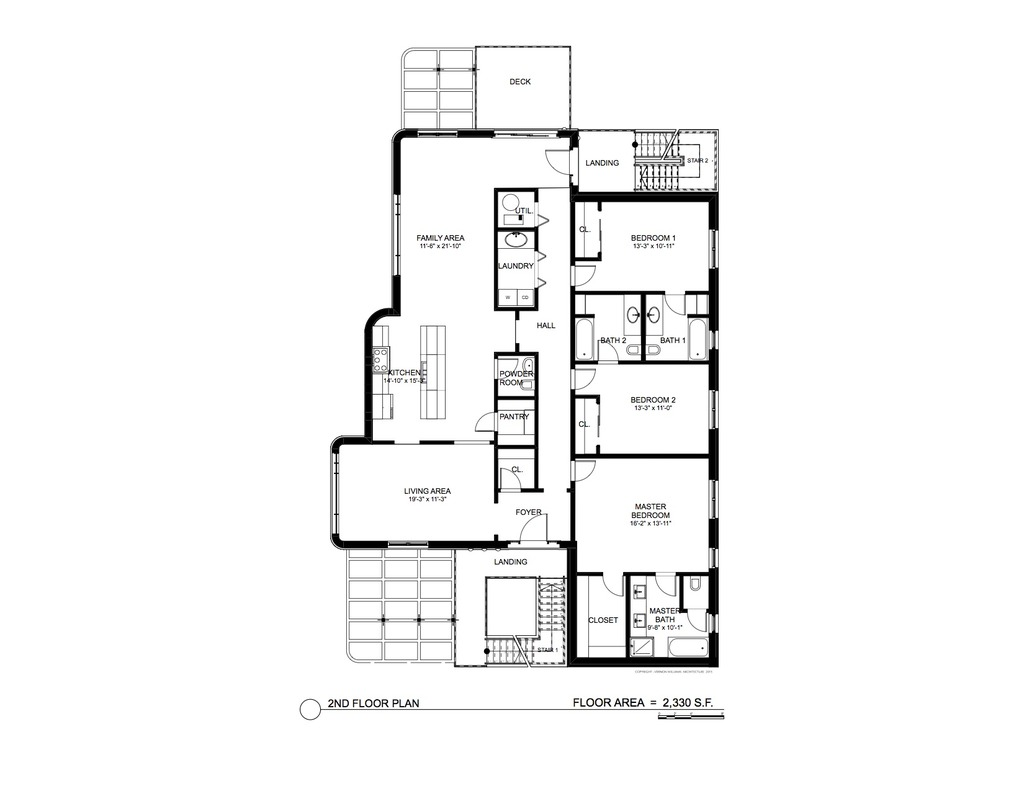door: (517, 513, 551, 547), (541, 145, 571, 180), (567, 259, 599, 289), (600, 569, 626, 601), (570, 458, 601, 484), (571, 365, 599, 390), (494, 465, 520, 490), (471, 414, 499, 437), (655, 573, 678, 601), (683, 609, 710, 631)
small_sink: (629, 575, 650, 637), (641, 292, 665, 337), (499, 231, 537, 252), (621, 294, 640, 336)
stairs: (478, 574, 564, 669), (628, 126, 722, 194)
tub: (685, 319, 708, 363), (668, 636, 710, 657)
windows: (389, 188, 404, 285), (491, 122, 560, 143), (328, 450, 339, 535)
